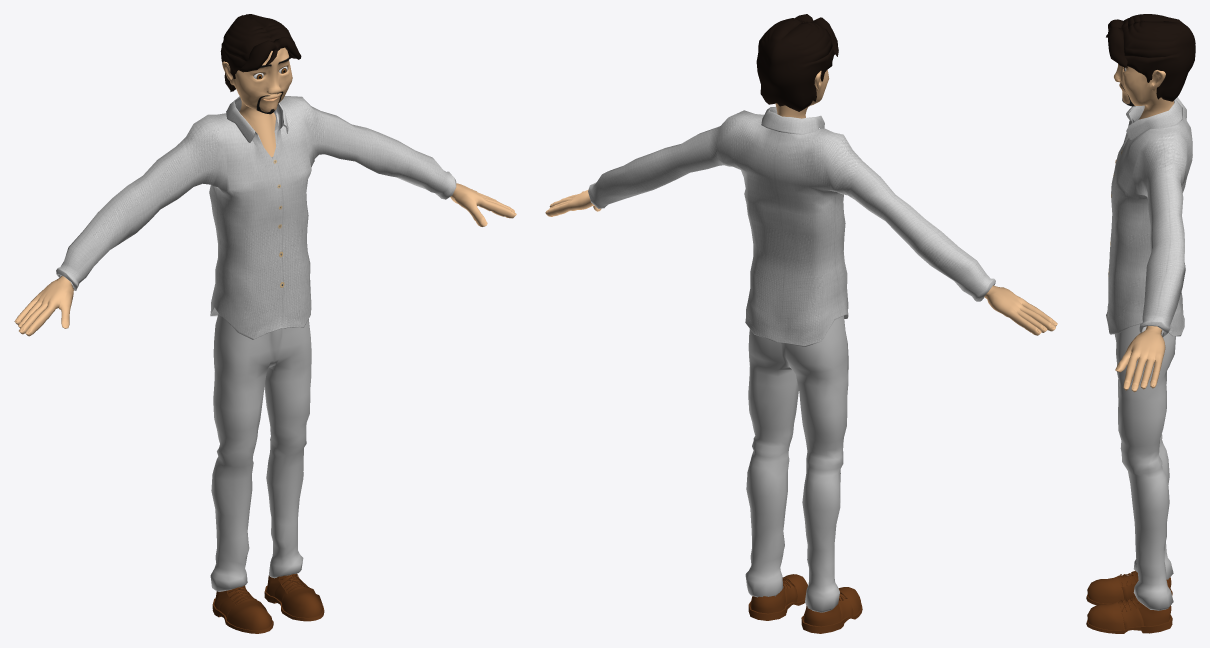
Rendered from ARTHUR_MOD.obj.
The picture shows the model from 3 angles, left to right: view 1: azimuth 30°, elevation 25°; view 2: azimuth 150°, elevation 25°; view 3: azimuth 270°, elevation 25°; orthographic projection.
Parts seen in each view (by area): view 1: ARTHUR_GEO ARTHUR_c_shirt_00_msh, ARTHUR_GEO ARTHUR_c_pantsUV_00_msh, ARTHUR_GEO ARTHUR_face_blended_msh, ARTHUR_GEO ARTHUR_c_hair_00_msh, ARTHUR_GEO ARTHUR_r_shoe_00_msh, ARTHUR_GEO ARTHUR_l_shoe_00_msh, ARTHUR_GEO ARTHURrl_hand, ARTHUR_GEO ARTHUR_l_hand; view 2: ARTHUR_GEO ARTHUR_c_shirt_00_msh, ARTHUR_GEO ARTHUR_c_pantsUV_00_msh, ARTHUR_GEO ARTHUR_c_hair_00_msh, ARTHUR_GEO ARTHURrl_hand, ARTHUR_GEO ARTHUR_l_shoe_00_msh, ARTHUR_GEO ARTHUR_r_shoe_00_msh, ARTHUR_GEO ARTHUR_l_hand; view 3: ARTHUR_GEO ARTHUR_c_shirt_00_msh, ARTHUR_GEO ARTHUR_c_pantsUV_00_msh, ARTHUR_GEO ARTHUR_c_hair_00_msh, ARTHUR_GEO ARTHUR_l_shoe_00_msh, ARTHUR_GEO ARTHUR_l_hand, ARTHUR_GEO ARTHUR_face_blended_msh, ARTHUR_GEO ARTHUR_r_shoe_00_msh.
Boxes of the visible parts, x1,y1,x2,y2 form: ARTHUR_GEO ARTHUR_c_shirt_00_msh: (56,96,456,339); ARTHUR_GEO ARTHUR_c_pantsUV_00_msh: (210,313,311,591); ARTHUR_GEO ARTHUR_face_blended_msh: (222,47,292,157); ARTHUR_GEO ARTHUR_c_hair_00_msh: (220,14,301,91); ARTHUR_GEO ARTHUR_r_shoe_00_msh: (212,585,273,633); ARTHUR_GEO ARTHUR_l_shoe_00_msh: (264,573,324,621); ARTHUR_GEO ARTHURrl_hand: (14,276,73,336); ARTHUR_GEO ARTHUR_l_hand: (450,183,516,226); ARTHUR_GEO ARTHUR_c_shirt_00_msh: (588,107,995,346); ARTHUR_GEO ARTHUR_c_pantsUV_00_msh: (745,316,848,612); ARTHUR_GEO ARTHUR_c_hair_00_msh: (756,14,838,111); ARTHUR_GEO ARTHURrl_hand: (984,285,1057,335); ARTHUR_GEO ARTHUR_l_shoe_00_msh: (748,574,807,620); ARTHUR_GEO ARTHUR_r_shoe_00_msh: (801,587,862,633); ARTHUR_GEO ARTHUR_l_hand: (545,189,601,216); ARTHUR_GEO ARTHUR_c_shirt_00_msh: (1106,97,1192,337); ARTHUR_GEO ARTHUR_c_pantsUV_00_msh: (1114,324,1175,610); ARTHUR_GEO ARTHUR_c_hair_00_msh: (1106,14,1195,101); ARTHUR_GEO ARTHUR_l_shoe_00_msh: (1086,596,1172,633); ARTHUR_GEO ARTHUR_l_hand: (1115,326,1165,392); ARTHUR_GEO ARTHUR_face_blended_msh: (1114,64,1174,119); ARTHUR_GEO ARTHUR_r_shoe_00_msh: (1086,570,1172,605).
Size of the model in its own units: 174 by 195 by 32.72.
